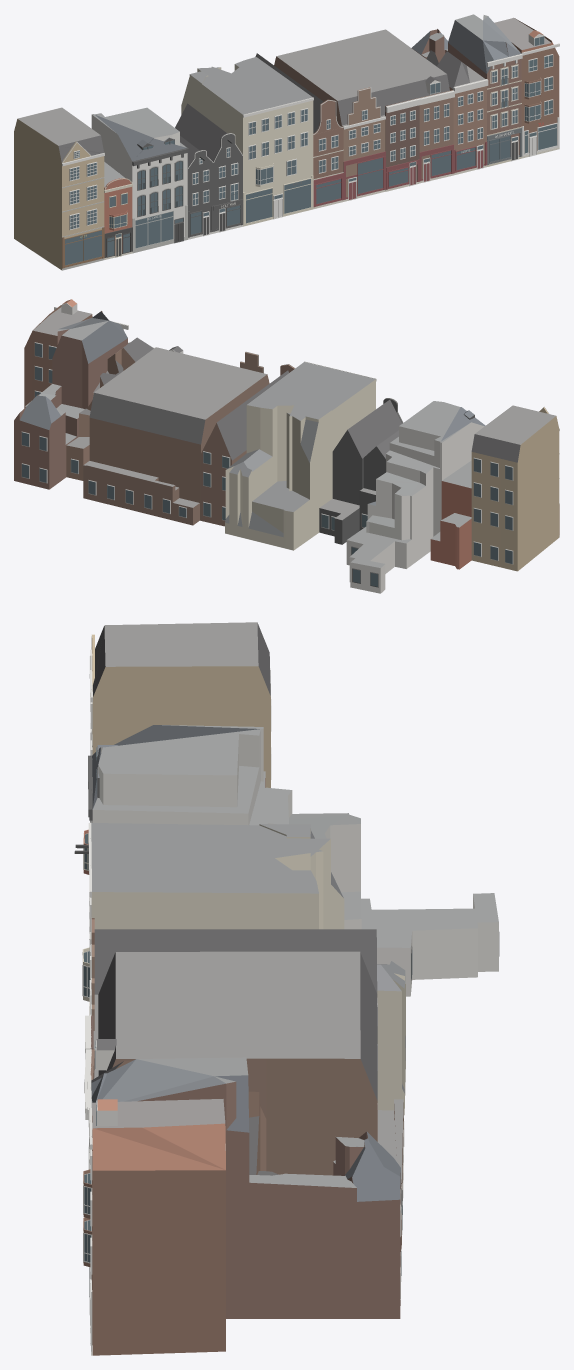
File: chunk-face-utrechtse-48-76.glb
3 renders of one model, top to bottom at view 1: azimuth 30°, elevation 25°; view 2: azimuth 150°, elevation 25°; view 3: azimuth 270°, elevation 25°, orthographic. The views are drawn at different scales.
Parts seen in each view (by area): view 1: face-utrechtse-48-76; view 2: face-utrechtse-48-76; view 3: face-utrechtse-48-76.
Boxes of the visible parts, left/top/right/bottom form: face-utrechtse-48-76: left=14, top=14, right=559, bottom=270; face-utrechtse-48-76: left=14, top=299, right=559, bottom=593; face-utrechtse-48-76: left=74, top=622, right=499, bottom=1355.
Bounding box in the file's own units: 75.47 × 18.02 × 27.68.
